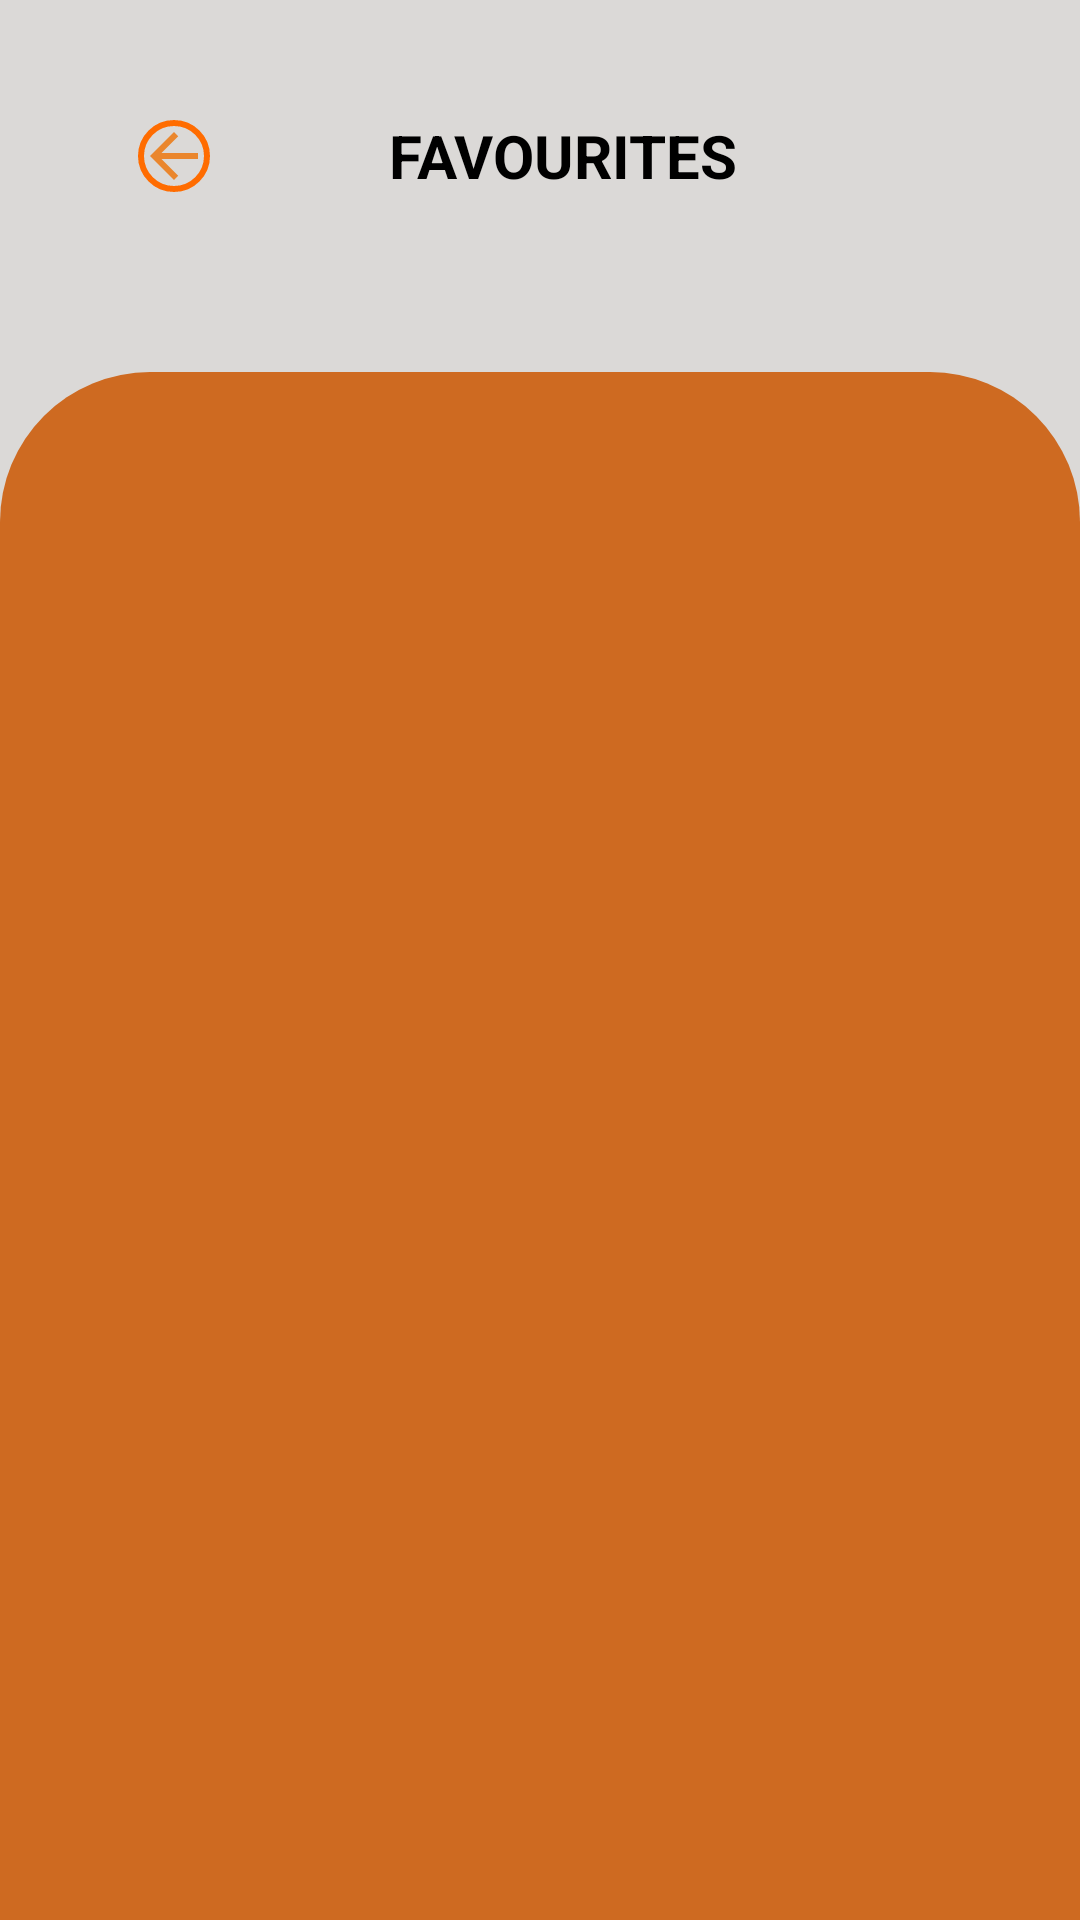

Screen size 1080×1920. Icon name, then its box in pixels as region(x1, y1, x2, y2):
arrow back: region(138, 120, 210, 192)
